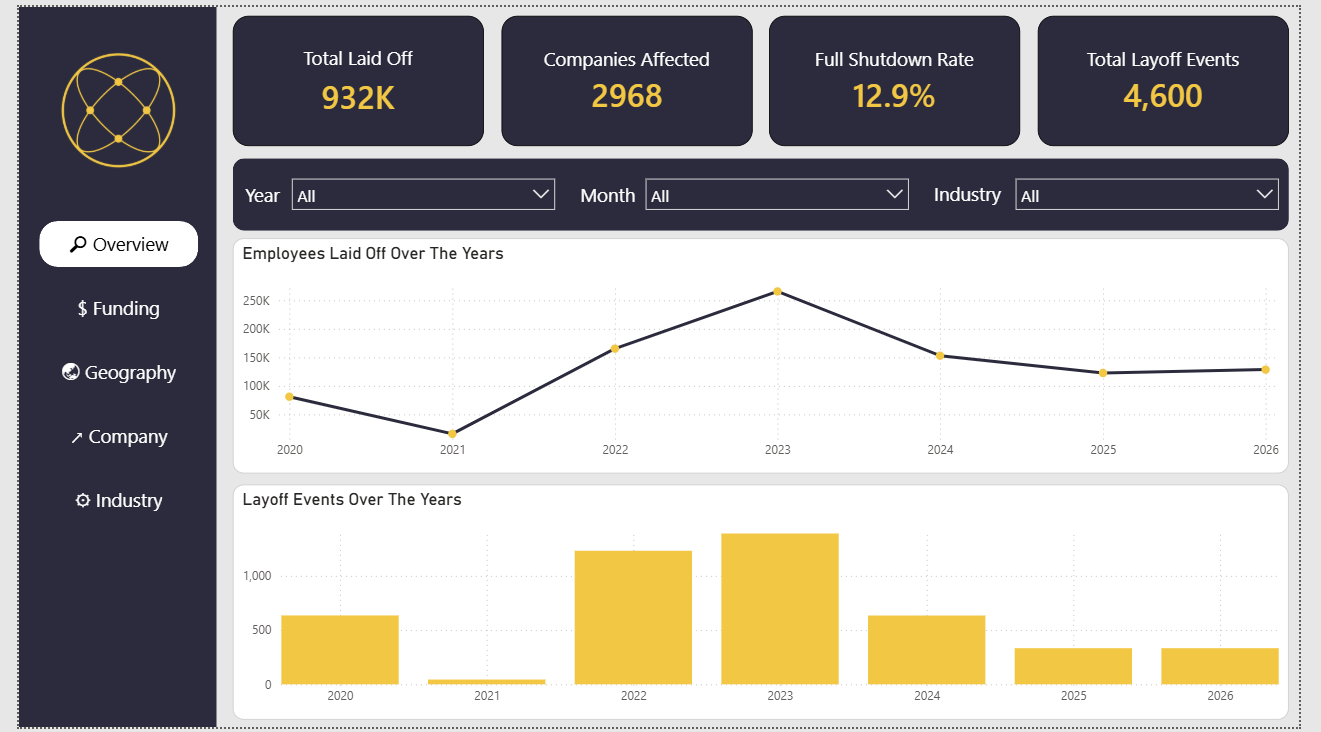

The page's visual inventory and layout, read from the dashboard file:
{"tool":"powerbi","page":{"name":"🔎︎ Overview","canvas":[1280,720],"ordinal":0},"visuals":[{"type":"cardVisual","fields":{"Data":["Layoff Measures.Total Laid Off"]},"box":[213.5,8.8,251,130.4],"z":0,"group":"g3"},{"type":"shape","box":[213.8,151.2,1056.2,72.5],"z":0,"group":"g7"},{"type":"group","id":"g1","title":"Group 2","box":[221.2,161.1,324.1,49.5],"z":0,"group":"g6"},{"type":"lineChart","title":"Employees Laid Off Over The Years","fields":{"Category":["dim_date.date.Variation.Date Hierarchy.Year","dim_date.date.Variation.Date Hierarchy.Quarter","dim_date.date.Variation.Date Hierarchy.Month","dim_date.date.Variation.Date Hierarchy.Day"],"Y":["Layoff Measures.Total Laid Off"]},"box":[213.8,231.2,1056.2,235],"z":0},{"type":"shape","box":[0,0,197.5,720],"z":1000},{"type":"cardVisual","fields":{"Data":["Layoff Measures.Total Layoff Events"]},"box":[1018.5,8.8,251,130.4],"z":1000,"group":"g3"},{"type":"group","id":"g2","title":"Group 4","box":[556.5,161.1,343.8,49.5],"z":1000,"group":"g6"},{"type":"group","id":"g3","title":"Group 1","box":[213.5,8.8,1056,130.4],"z":2000},{"type":"cardVisual","fields":{"Data":["General Measures.Companies Affected"]},"box":[481.7,9.2,251.2,130],"z":2000,"group":"g3"},{"type":"group","id":"g4","title":"Group 5","box":[910.3,161.1,359.4,50.7],"z":2000,"group":"g6"},{"type":"cardVisual","fields":{"Data":["General Measures.Full Shutdowns % (Disclosed)"]},"box":[750.3,8.8,251,130.4],"z":3000,"group":"g3"},{"type":"pageNavigator","box":[11.2,205,177.5,322.5],"z":3000},{"type":"image","box":[6.2,22.5,186.2,161.2],"z":4000},{"type":"columnChart","title":"Layoff Events Over The Years","fields":{"Category":["dim_date.date.Variation.Date Hierarchy.Year","dim_date.date.Variation.Date Hierarchy.Month"],"Y":["Layoff Measures.Total Layoff Events"]},"box":[214,477.5,1056.4,235],"z":6000},{"type":"textbox","box":[556.5,169.8,82.9,35.9],"z":7002,"group":"g2"},{"type":"slicer","fields":{"Values":["dim_date.Year"]},"box":[262,161.1,283.3,49.5],"z":8000,"group":"g5"},{"type":"slicer","fields":{"Values":["dim_date.month_name"]},"box":[617,161.1,283.3,49.5],"z":8000,"group":"g2"},{"type":"slicer","fields":{"Values":["dim_industry.industry"]},"box":[986.5,161.1,283.3,50.7],"z":8000,"group":"g4"},{"type":"group","id":"g5","title":"Group 3","box":[221.2,161.1,324.1,49.5],"z":8001,"group":"g1"},{"type":"textbox","box":[910.3,168.5,92.8,35.9],"z":9000,"group":"g4"},{"type":"textbox","box":[221.2,169.9,65,36.2],"z":9001,"group":"g5"},{"type":"group","id":"g6","title":"Group 6","box":[221.2,161.1,1048.5,50.7],"z":9003,"group":"g7"},{"type":"group","id":"g7","title":"Group 7","box":[213.8,151.2,1056.2,72.5],"z":9004}]}

Visuals, with their boxes in screenshot pixels (x1, y1, x2, y2), scaled from the page's 1280x720 canvas onto the 1321x732 screenshot:
cardVisual - Layoff Measures.Total Laid Off: bbox=[220, 9, 479, 142]
shape: bbox=[221, 154, 1311, 227]
"Group 2" group: bbox=[228, 164, 563, 214]
"Employees Laid Off Over The Years" lineChart: bbox=[221, 235, 1311, 474]
shape: bbox=[0, 0, 204, 731]
cardVisual - Layoff Measures.Total Layoff Events: bbox=[1051, 9, 1310, 142]
"Group 4" group: bbox=[574, 164, 929, 214]
"Group 1" group: bbox=[220, 9, 1310, 142]
cardVisual - General Measures.Companies Affected: bbox=[497, 9, 756, 142]
"Group 5" group: bbox=[939, 164, 1310, 215]
cardVisual - General Measures.Full Shutdowns % (Disclosed): bbox=[774, 9, 1033, 142]
pageNavigator: bbox=[12, 208, 195, 536]
image: bbox=[6, 23, 199, 187]
"Layoff Events Over The Years" columnChart: bbox=[221, 485, 1311, 724]
textbox: bbox=[574, 173, 660, 209]
slicer - dim_date.Year: bbox=[270, 164, 563, 214]
slicer - dim_date.month_name: bbox=[637, 164, 929, 214]
slicer - dim_industry.industry: bbox=[1018, 164, 1310, 215]
"Group 3" group: bbox=[228, 164, 563, 214]
textbox: bbox=[939, 171, 1035, 208]
textbox: bbox=[228, 173, 295, 210]
"Group 6" group: bbox=[228, 164, 1310, 215]
"Group 7" group: bbox=[221, 154, 1311, 227]
